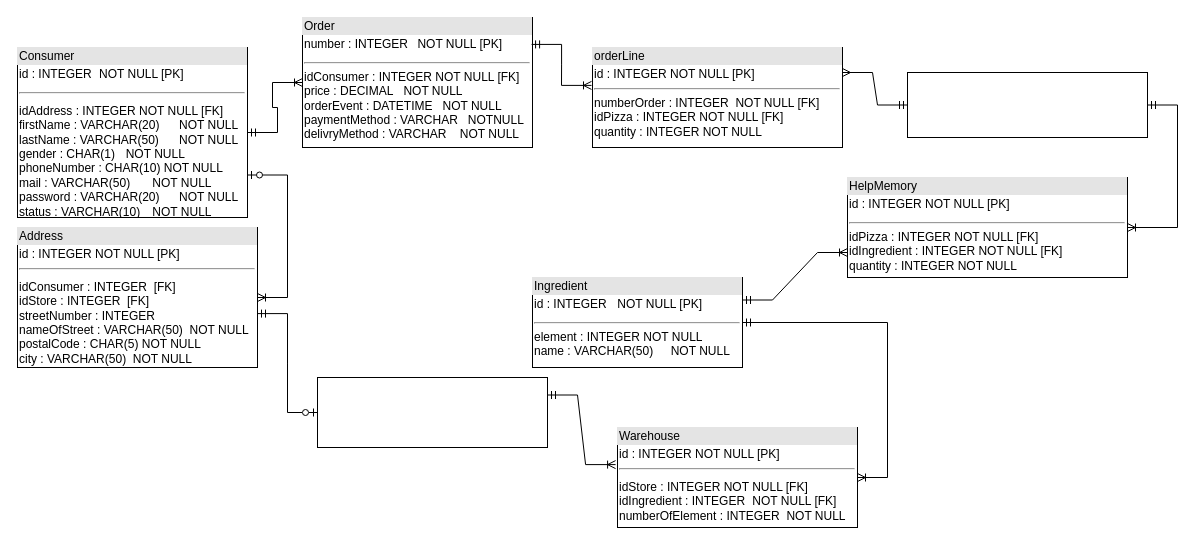
Image size: 1204x545. Some labels were removed from this diagram. Each missing label, with the centre of its shape:
"Pizza id : INTEGER NOT NULL [PK] name : VARCHAR(50) NOT NULL" goes at point 1027,105.
"Store id : INTEGER NOT NULL [PK] name : VARCHAR(20) NOT NULL" goes at point 432,412.
